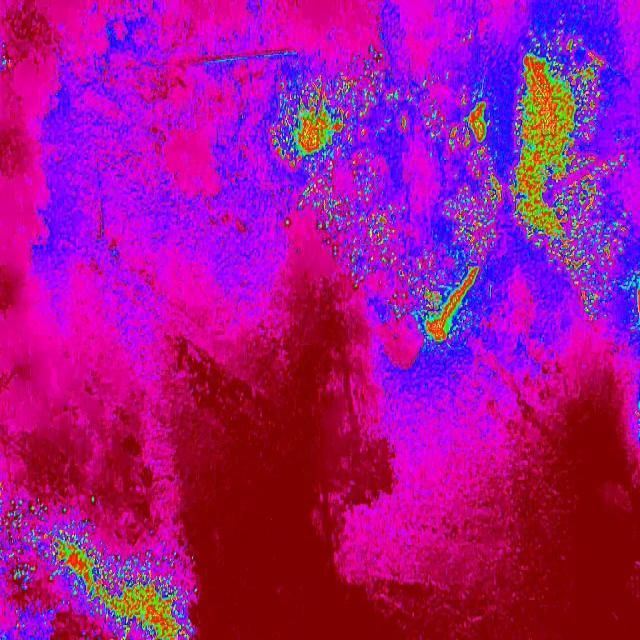fire: (267, 42, 640, 226), (0, 496, 200, 640), (322, 225, 498, 289), (368, 289, 482, 353), (524, 226, 638, 274), (571, 273, 640, 331)
